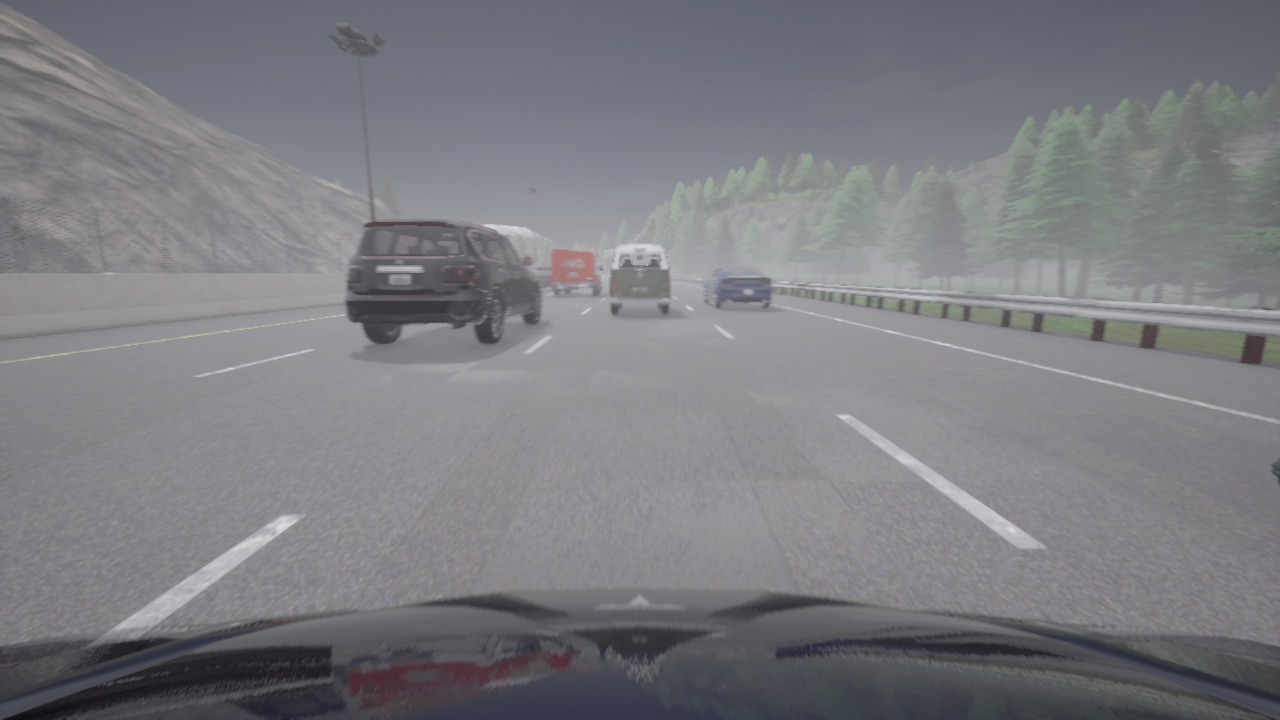cyclist: (0, 588, 1279, 719), (345, 219, 541, 343), (609, 244, 670, 314), (702, 264, 771, 308), (550, 249, 602, 295), (534, 267, 552, 290), (1269, 459, 1279, 486)
